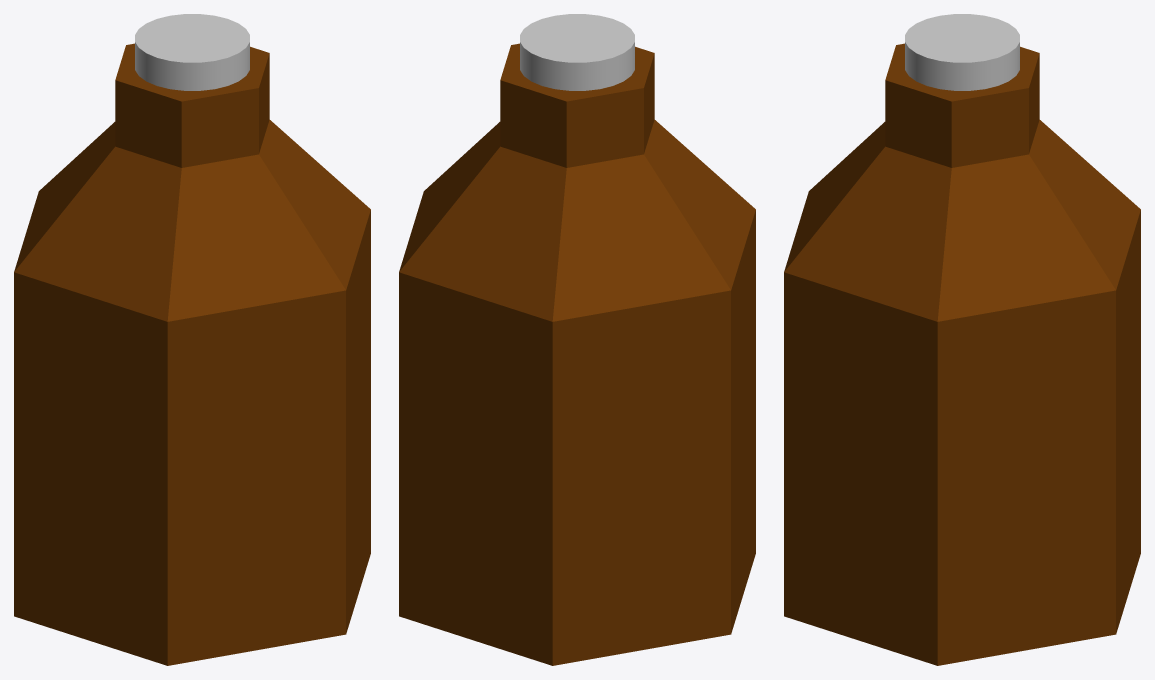
3 renders of one model, left to right at view 1: azimuth 30°, elevation 25°; view 2: azimuth 150°, elevation 25°; view 3: azimuth 270°, elevation 25°, orthographic.
Visible parts, largest first — view 1: mesh1_mesh1-geometry; view 2: mesh1_mesh1-geometry; view 3: mesh1_mesh1-geometry.
Boxes of the visible parts, box(x1,y1,x2,y2) form: mesh1_mesh1-geometry: box(14, 14, 370, 665); mesh1_mesh1-geometry: box(399, 14, 755, 665); mesh1_mesh1-geometry: box(784, 14, 1140, 665).
Bounding box in the file's own units: 0.48 × 0.7549 × 0.4468.
